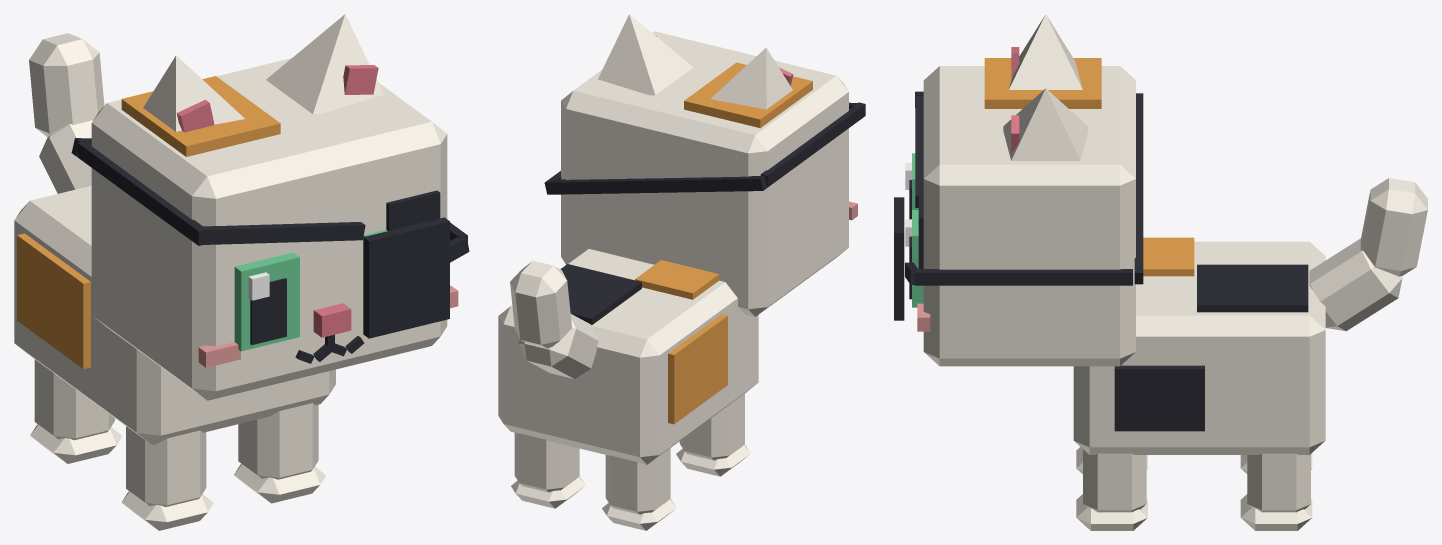
The model's file is CatCafe_Cat_Calico.fbx.
3 views of the same model, side by side, from view 1: azimuth 30°, elevation 25°; view 2: azimuth 150°, elevation 25°; view 3: azimuth 270°, elevation 25° (orthographic). The views are drawn at different scales.
Parts seen in each view (by area): view 1: CatCafe_Cat_Calico_Head, CatCafe_Cat_Calico_Body, CatCafe_Cat_Calico_Prop, CatCafe_Cat_Calico_Tail, CatCafe_Cat_Calico_LegF2, CatCafe_Cat_Calico_LegF1, CatCafe_Cat_Calico_EarL, CatCafe_Cat_Calico_Eye2, CatCafe_Cat_Calico_LegB2, CatCafe_Cat_Calico_EarR; view 2: CatCafe_Cat_Calico_Head, CatCafe_Cat_Calico_Body, CatCafe_Cat_Calico_Tail, CatCafe_Cat_Calico_Prop, CatCafe_Cat_Calico_LegB2, CatCafe_Cat_Calico_EarL, CatCafe_Cat_Calico_LegB1, CatCafe_Cat_Calico_LegF2, CatCafe_Cat_Calico_EarR; view 3: CatCafe_Cat_Calico_Head, CatCafe_Cat_Calico_Body, CatCafe_Cat_Calico_Tail, CatCafe_Cat_Calico_Prop, CatCafe_Cat_Calico_LegF1, CatCafe_Cat_Calico_LegB1, CatCafe_Cat_Calico_EarL, CatCafe_Cat_Calico_EarR, CatCafe_Cat_Calico_Eye1.
Boxes of the visible parts, x1,y1,x2,y2 form: CatCafe_Cat_Calico_Head: [91, 58, 458, 400]; CatCafe_Cat_Calico_Body: [14, 185, 335, 444]; CatCafe_Cat_Calico_Prop: [71, 138, 469, 338]; CatCafe_Cat_Calico_Tail: [29, 33, 104, 193]; CatCafe_Cat_Calico_LegF2: [121, 426, 213, 530]; CatCafe_Cat_Calico_LegF1: [234, 403, 325, 503]; CatCafe_Cat_Calico_EarL: [266, 14, 383, 114]; CatCafe_Cat_Calico_Eye2: [234, 252, 299, 351]; CatCafe_Cat_Calico_LegB2: [30, 359, 122, 463]; CatCafe_Cat_Calico_EarR: [143, 55, 244, 132]; CatCafe_Cat_Calico_Head: [561, 31, 857, 316]; CatCafe_Cat_Calico_Body: [498, 249, 758, 464]; CatCafe_Cat_Calico_Tail: [510, 260, 598, 379]; CatCafe_Cat_Calico_Prop: [544, 102, 865, 194]; CatCafe_Cat_Calico_LegB2: [602, 448, 676, 530]; CatCafe_Cat_Calico_EarL: [598, 14, 693, 95]; CatCafe_Cat_Calico_LegB1: [511, 433, 585, 508]; CatCafe_Cat_Calico_LegF2: [676, 393, 750, 476]; CatCafe_Cat_Calico_EarR: [710, 47, 793, 109]; CatCafe_Cat_Calico_Head: [917, 58, 1135, 366]; CatCafe_Cat_Calico_Body: [1073, 237, 1325, 454]; CatCafe_Cat_Calico_Tail: [1309, 178, 1427, 331]; CatCafe_Cat_Calico_Prop: [894, 91, 1143, 320]; CatCafe_Cat_Calico_LegF1: [1076, 449, 1147, 530]; CatCafe_Cat_Calico_LegB1: [1240, 453, 1312, 530]; CatCafe_Cat_Calico_EarL: [1003, 88, 1088, 160]; CatCafe_Cat_Calico_EarR: [1009, 14, 1082, 89]; CatCafe_Cat_Calico_Eye1: [905, 210, 923, 307].
Size of the model in its own units: 1.06 by 1.86 by 2.01.
Materials: 1 (1 with a texture image).
